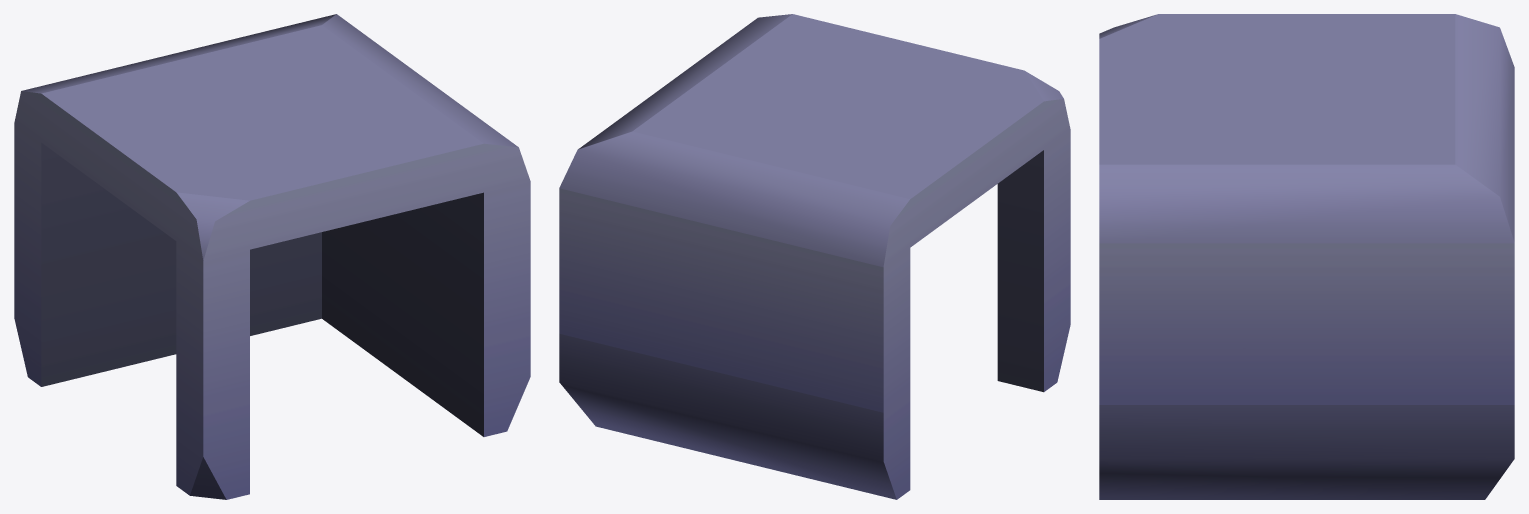
The model's file is kenney-conveyor-cover-corner.glb.
3 views of the same model, side by side, from view 1: azimuth 30°, elevation 25°; view 2: azimuth 150°, elevation 25°; view 3: azimuth 270°, elevation 25° (orthographic). The views are drawn at different scales.
Visible parts, largest first — view 1: cover-corner; view 2: cover-corner; view 3: cover-corner.
Part boxes in pixels (x1,y1,x2,y2): cover-corner: (14,14,530,499); cover-corner: (559,14,1070,499); cover-corner: (1099,14,1514,499).
Bounding box in the file's own units: 1.4 × 1.2 × 1.4.
Materials: 1 (1 with a texture image).
